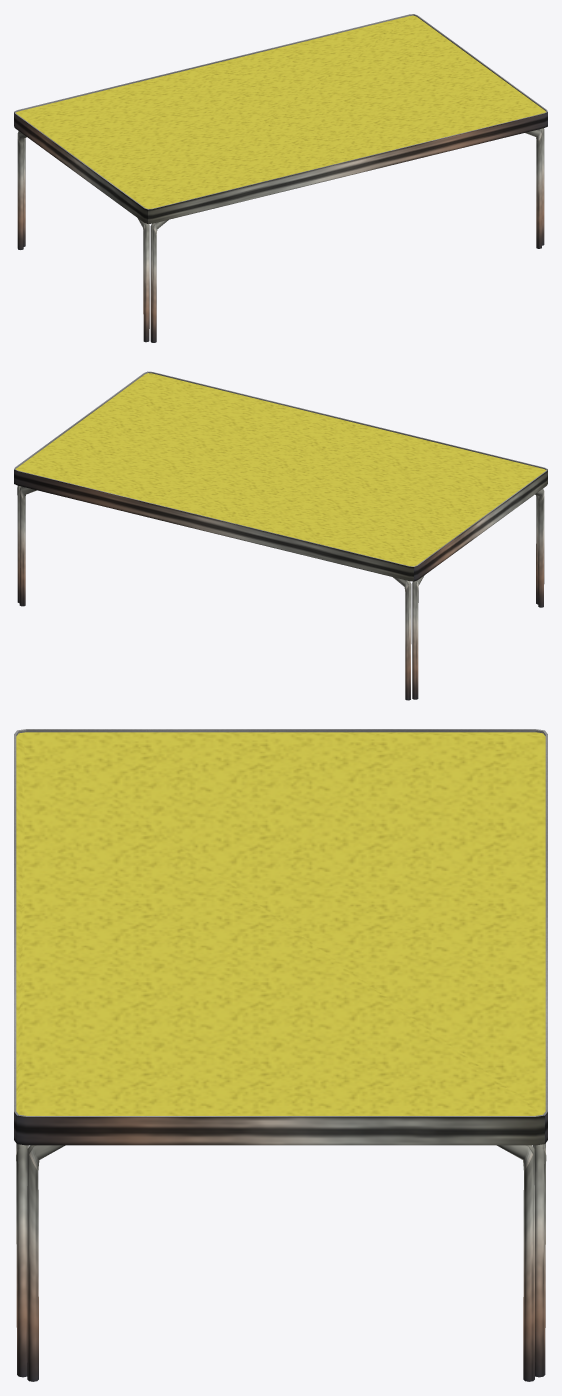
Rendered from Dining_Table_02_B.FBX.
3 views of the same model, one above another, from view 1: azimuth 30°, elevation 25°; view 2: azimuth 150°, elevation 25°; view 3: azimuth 270°, elevation 25° (orthographic). The views are drawn at different scales.
Visible parts, largest first — view 1: Dining_Table; view 2: Dining_Table; view 3: Dining_Table.
Part boxes in pixels (x1,y1,x2,y2): Dining_Table: (14,14,547,342); Dining_Table: (14,371,547,700); Dining_Table: (14,729,547,1381).
Bounding box in the file's own units: 437 × 140 × 254.
